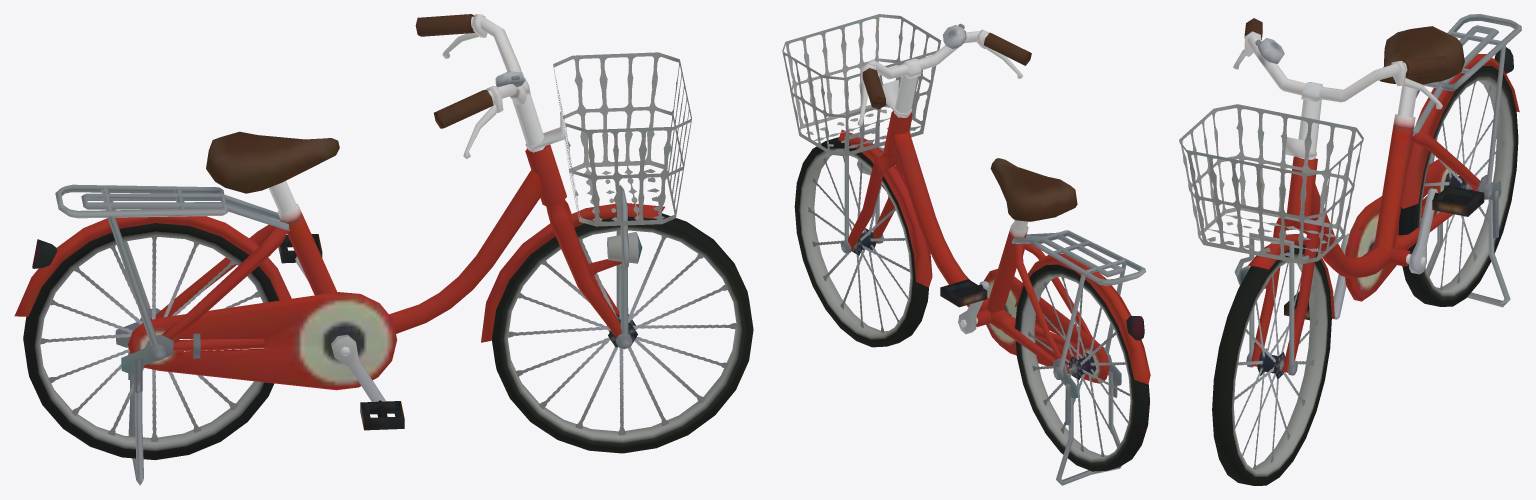
3 views of the same model, side by side, from view 1: azimuth 30°, elevation 25°; view 2: azimuth 150°, elevation 25°; view 3: azimuth 270°, elevation 25° (orthographic). The views are drawn at different scales.
Bounding box in the file's own units: 17.99 × 11.99 × 9.71.
1 material, 1 textured.
